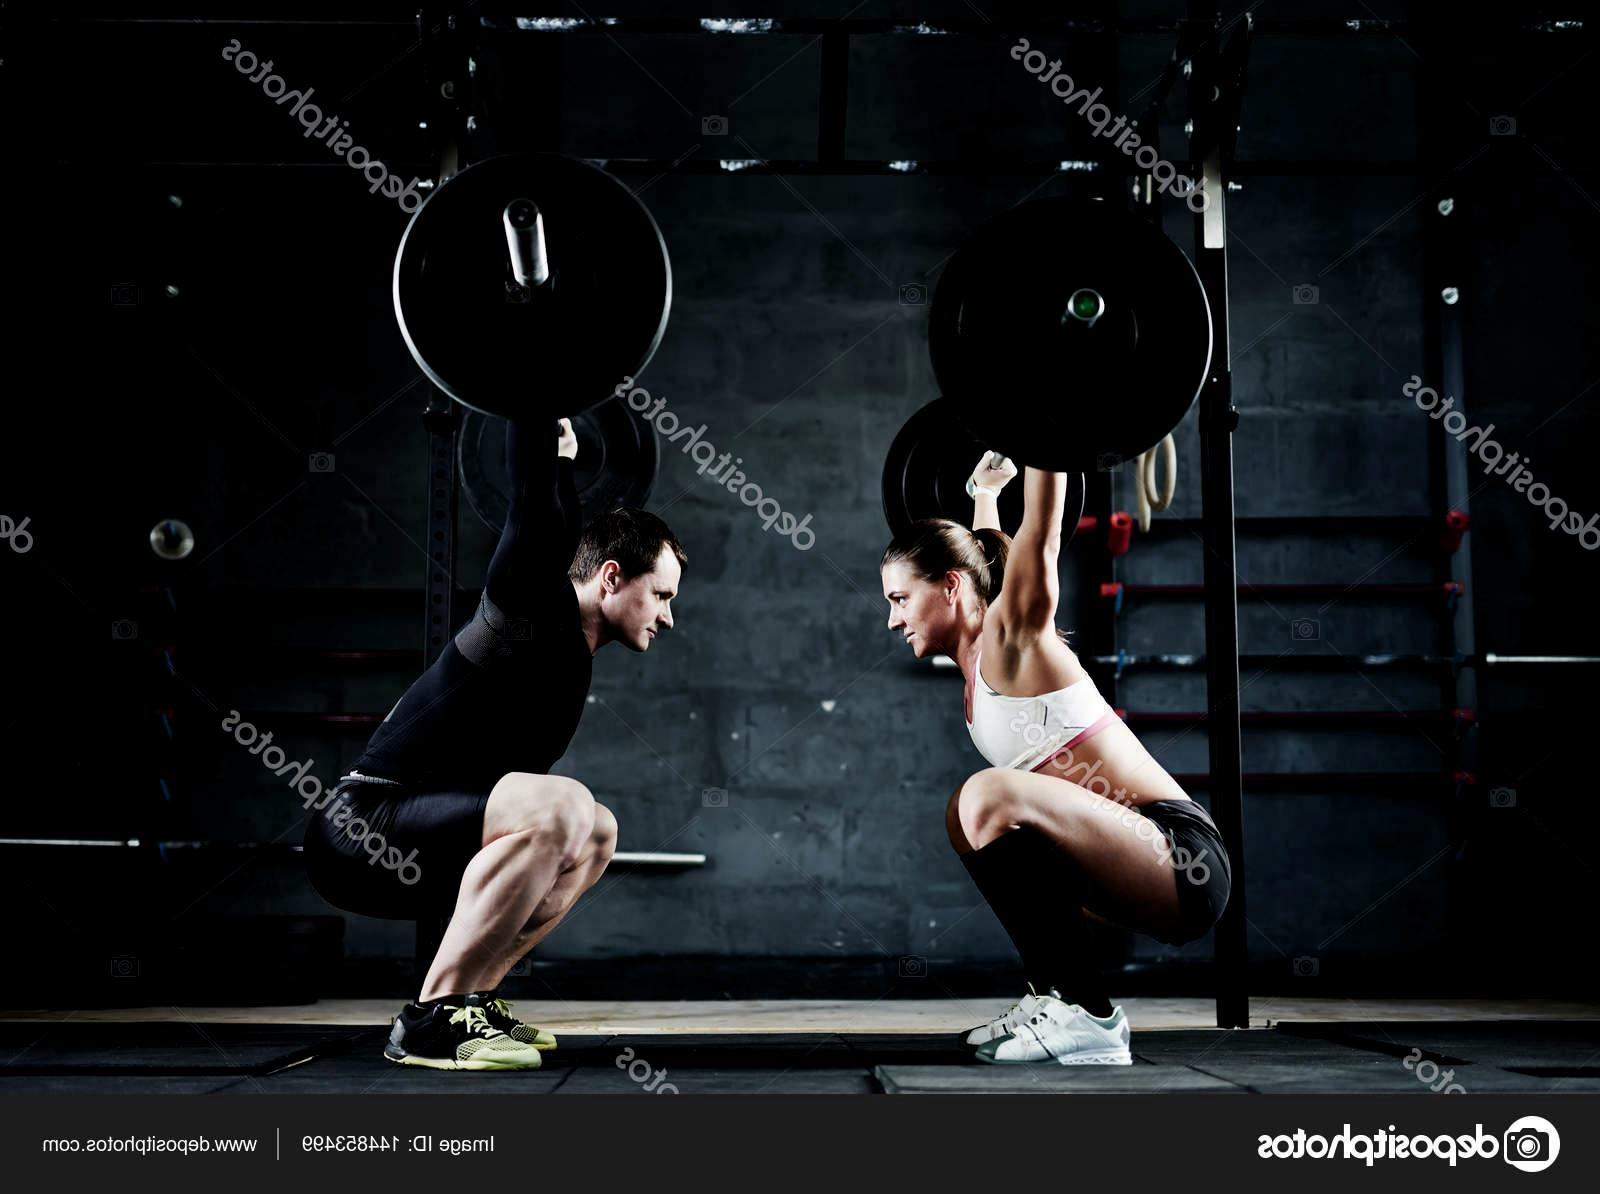Barbell: (1060, 283, 1110, 324), (502, 192, 539, 232)
